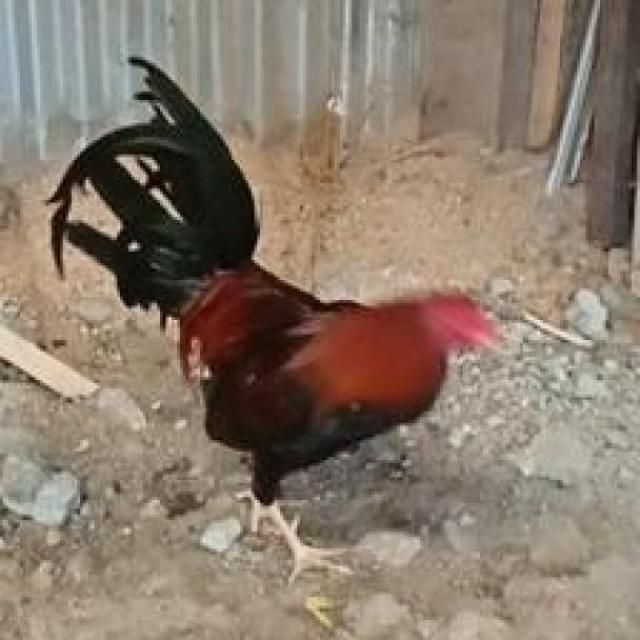Chicken: (41, 47, 534, 581)
